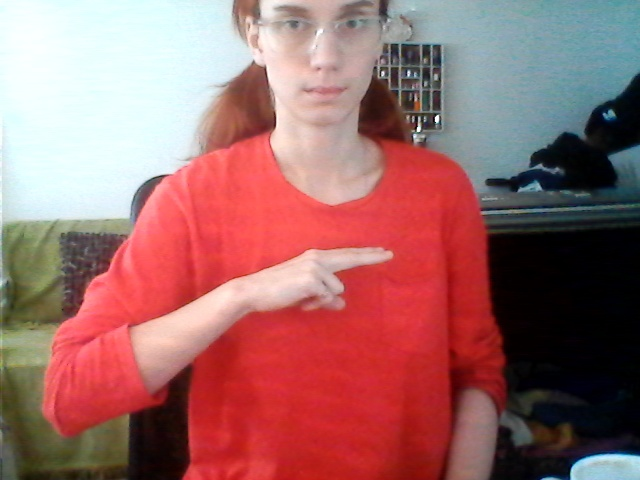frajer: (264, 235, 415, 329)
